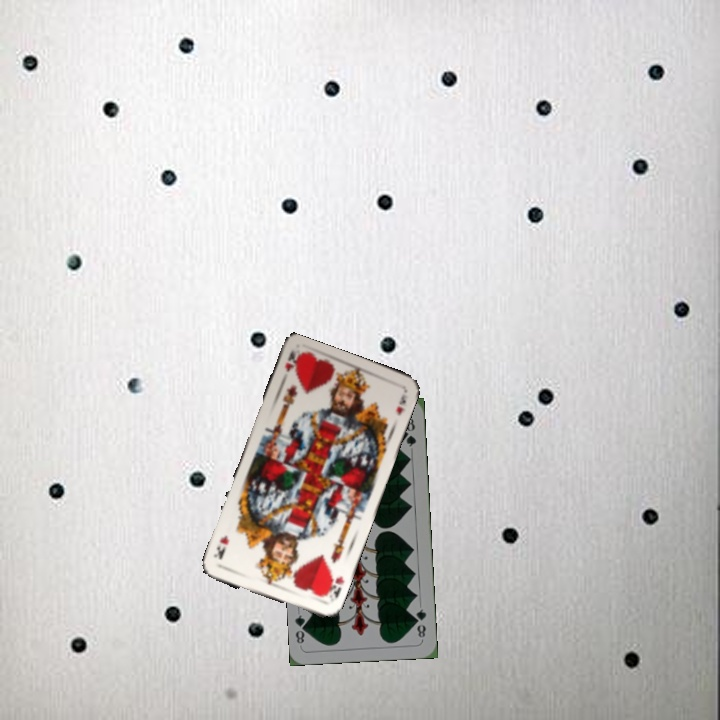G8: (411, 605, 429, 640)
HK: (321, 569, 347, 602), (281, 348, 300, 375)
